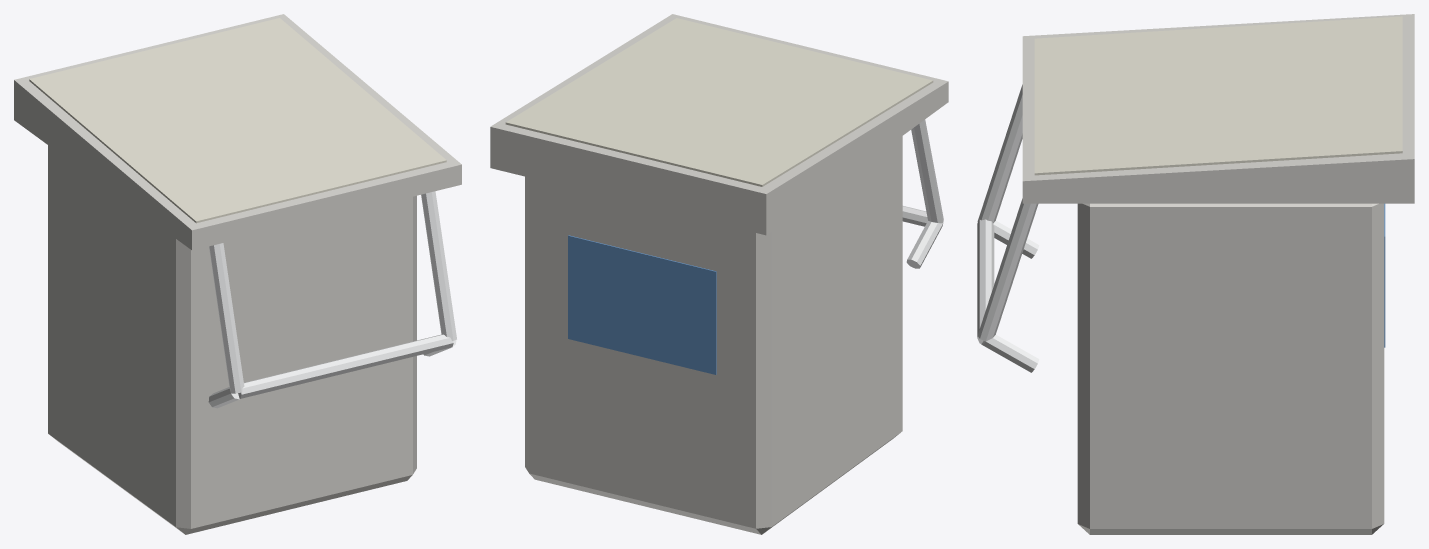
Rendered from start_block.glb.
3 views of the same model, side by side, from view 1: azimuth 30°, elevation 25°; view 2: azimuth 150°, elevation 25°; view 3: azimuth 270°, elevation 25° (orthographic). The views are drawn at different scales.
Parts seen in each view (by area): view 1: start_block_coping, start_block_grip, start_block_chrome; view 2: start_block_coping, start_block_grip, start_block_float_b, start_block_chrome; view 3: start_block_coping, start_block_grip, start_block_chrome.
Part boxes in pixels (<box>): start_block_coping: <box>14,14,461,534</box>; start_block_grip: <box>29,18,446,223</box>; start_block_chrome: <box>208,191,456,408</box>; start_block_coping: <box>490,14,948,534</box>; start_block_grip: <box>505,18,933,186</box>; start_block_float_b: <box>568,235,716,374</box>; start_block_chrome: <box>902,119,943,268</box>; start_block_coping: <box>1022,14,1414,534</box>; start_block_grip: <box>1034,16,1402,175</box>; start_block_chrome: <box>977,84,1039,372</box>.
Size of the model in its own units: 0.56 by 0.705 by 0.714.
